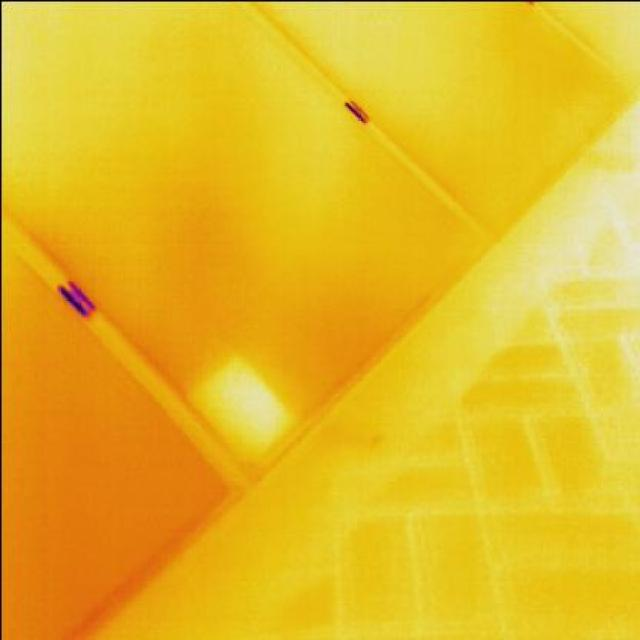hotspot: (185, 354, 300, 461)
